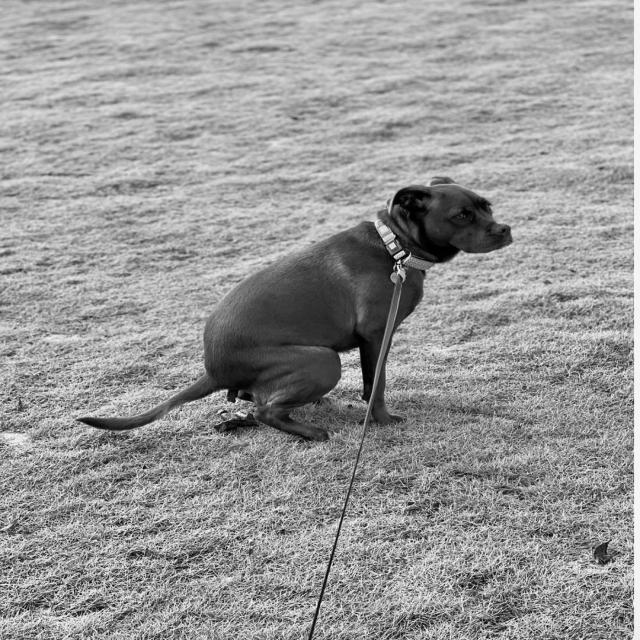squatting: (78, 170, 520, 452)
